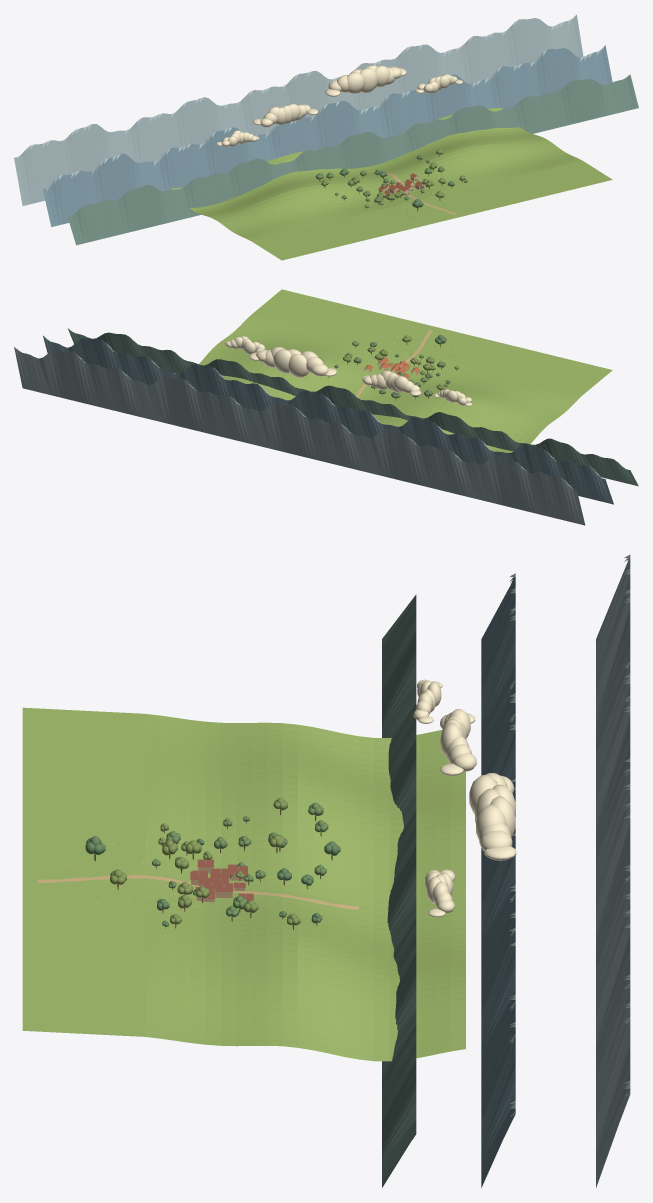
The model's file is meadow.glb.
The picture shows the model from 3 angles, top to bottom: view 1: azimuth 30°, elevation 25°; view 2: azimuth 150°, elevation 25°; view 3: azimuth 270°, elevation 25°; orthographic projection. The views are drawn at different scales.
Size of the model in its own units: 340 by 45.83 by 159.
